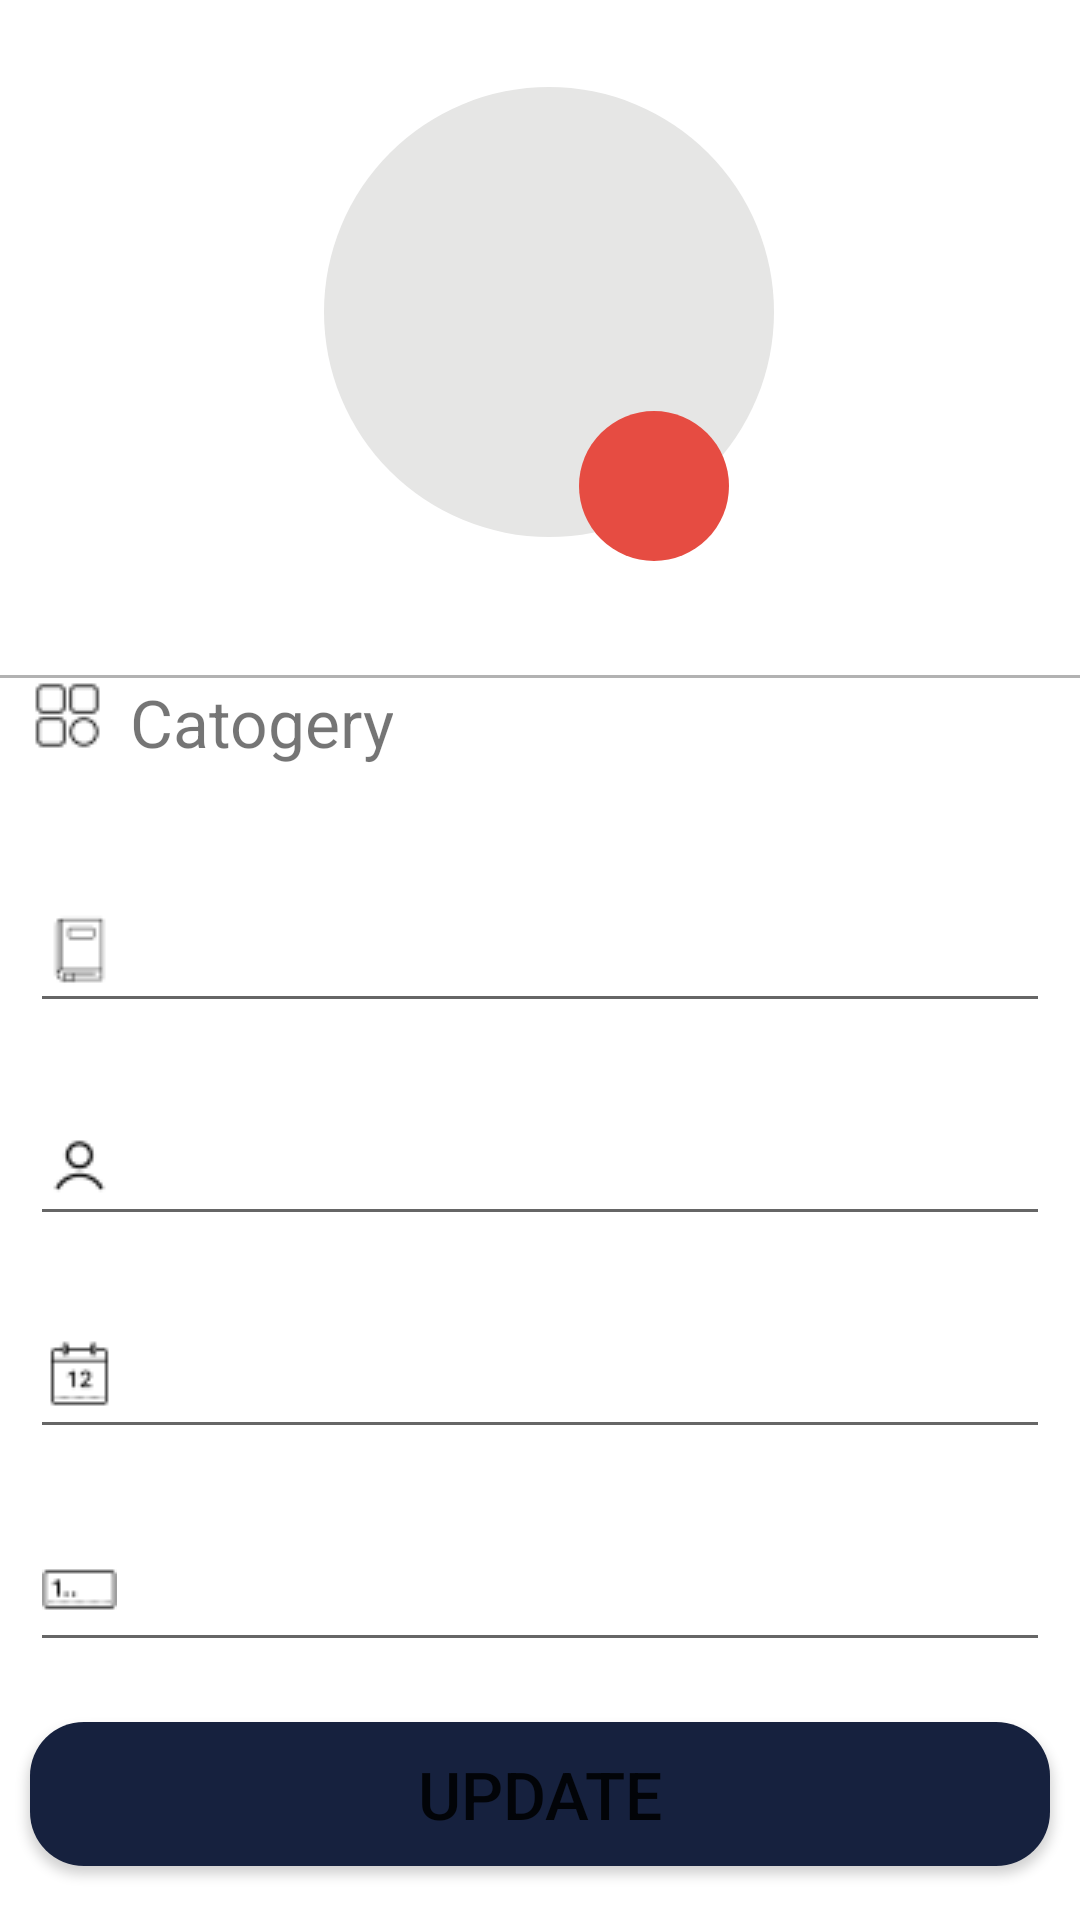

Where icons sit on this 1080*1920 app screen, as BBox(x1, y1, x2, y2):
catogersmall: BBox(35, 683, 100, 748)
